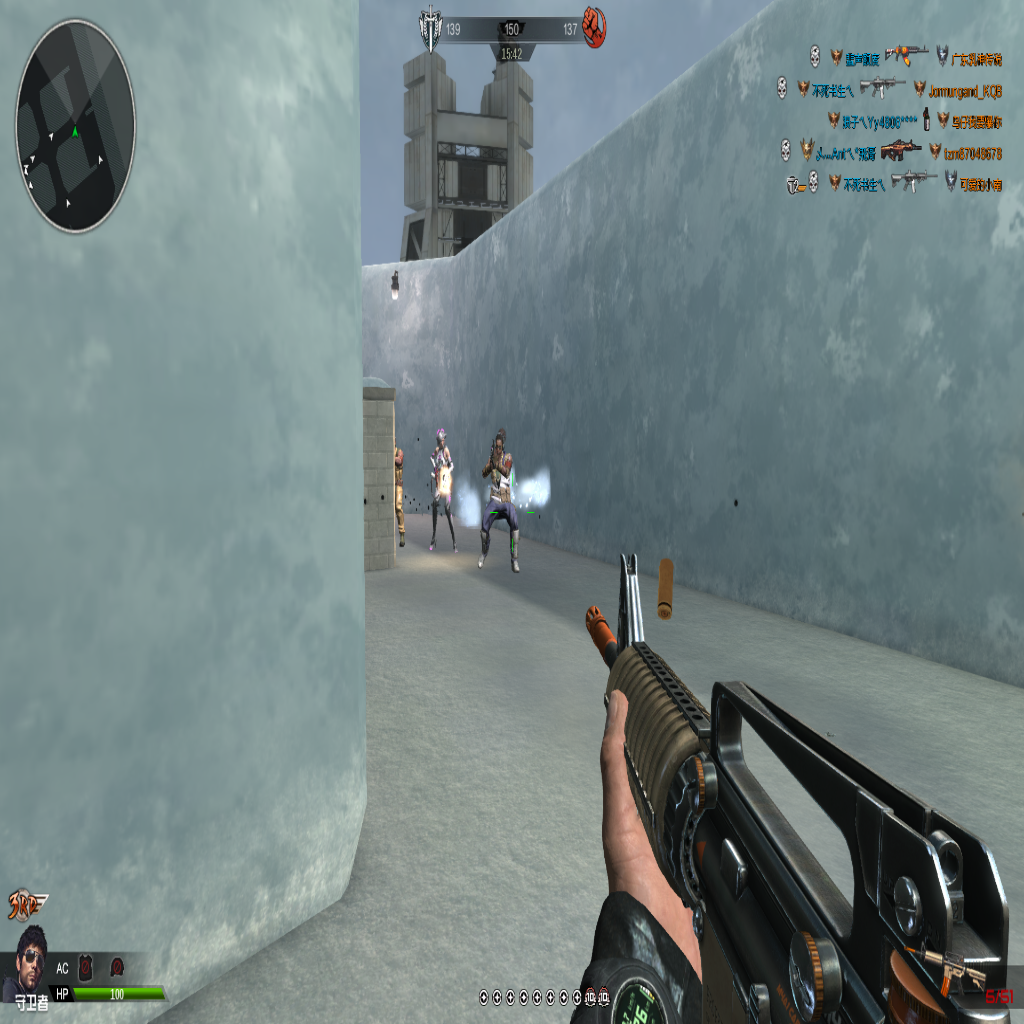tt: (479, 429, 518, 572), (428, 428, 457, 550), (394, 439, 404, 547)
